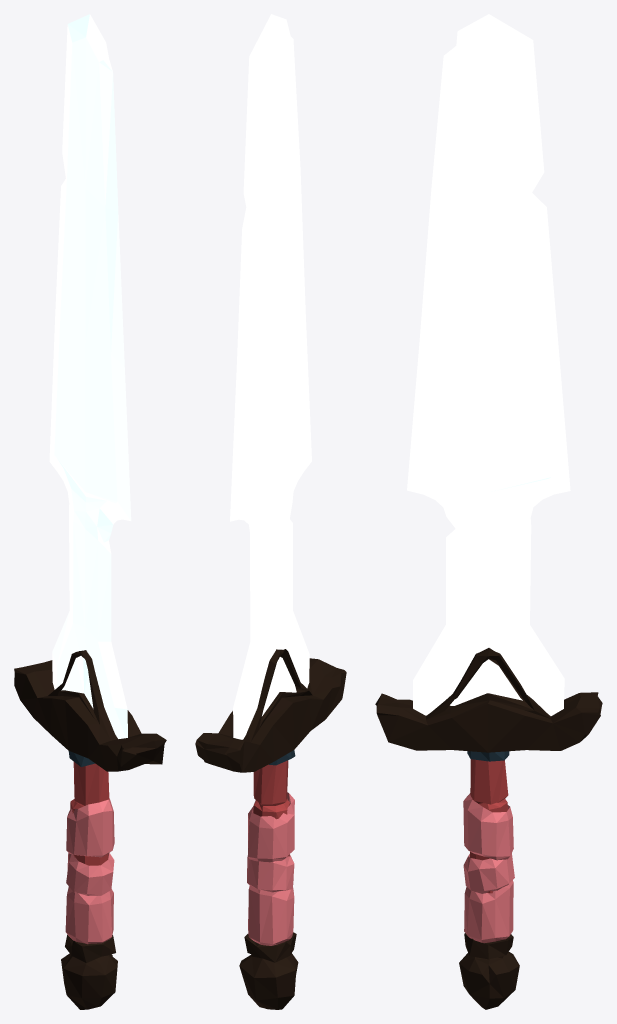
File: SFFA_Weapon_Longsword_Runical_005.fbx
3 views of the same model, side by side, from view 1: azimuth 30°, elevation 25°; view 2: azimuth 150°, elevation 25°; view 3: azimuth 270°, elevation 25° (orthographic).
Parts seen in each view (by area): view 1: SFFA_Weapon_Longsword_Runical_005; view 2: SFFA_Weapon_Longsword_Runical_005; view 3: SFFA_Weapon_Longsword_Runical_005.
Boxes of the visible parts, x1,y1,x2,y2 form: SFFA_Weapon_Longsword_Runical_005: [14, 14, 166, 1009]; SFFA_Weapon_Longsword_Runical_005: [195, 14, 346, 1009]; SFFA_Weapon_Longsword_Runical_005: [375, 14, 602, 1009].
Bounding box in the file's own units: 7.71 × 141 × 29.28.
